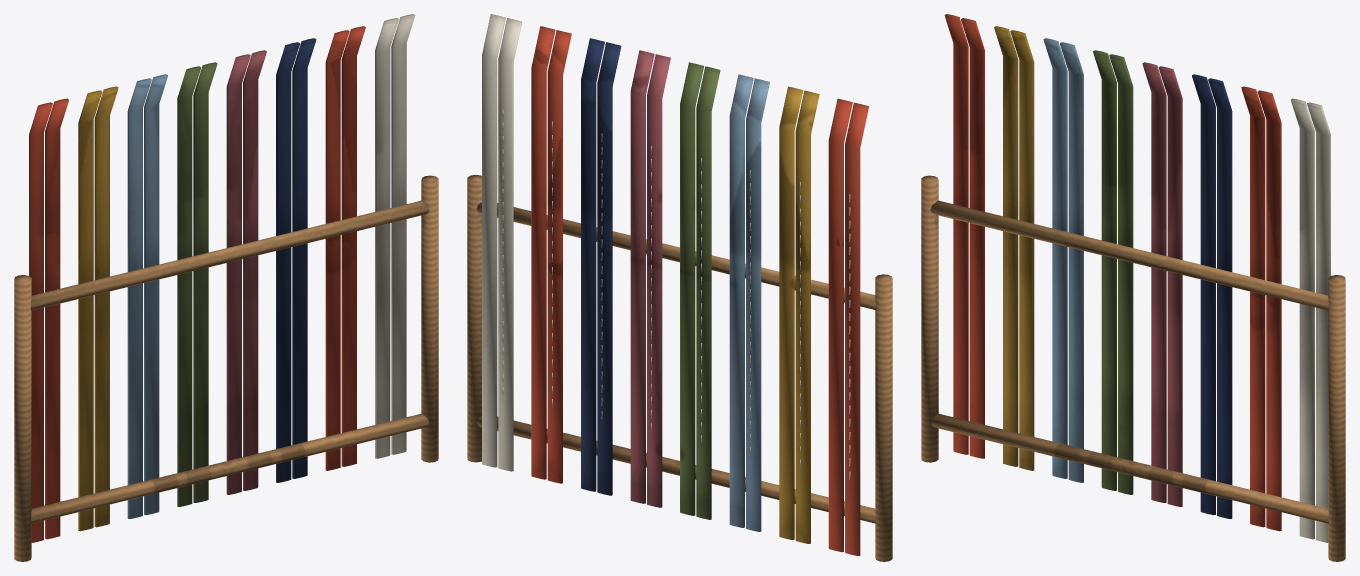
The model's file is ski_rack.glb.
3 views of the same model, side by side, from view 1: azimuth 30°, elevation 25°; view 2: azimuth 150°, elevation 25°; view 3: azimuth 330°, elevation 25° (orthographic).
Visible parts, largest first — view 1: ski_rack_felt_red, ski_rack_wood, ski_rack_felt_ivory, ski_rack_felt_mustard, ski_rack_felt_indigo, ski_rack_felt_moss, ski_rack_felt_rose, ski_rack_felt_sky; view 2: ski_rack_felt_red, ski_rack_felt_rose, ski_rack_felt_indigo, ski_rack_felt_moss, ski_rack_felt_ivory, ski_rack_felt_sky, ski_rack_felt_mustard, ski_rack_wood, ski_rack_thread; view 3: ski_rack_felt_red, ski_rack_wood, ski_rack_felt_mustard, ski_rack_felt_sky, ski_rack_felt_rose, ski_rack_felt_indigo, ski_rack_felt_moss, ski_rack_felt_ivory.
Boxes of the visible parts, bbox=[...] form: ski_rack_felt_red: bbox=[29, 26, 365, 542]; ski_rack_wood: bbox=[14, 175, 438, 561]; ski_rack_felt_ivory: bbox=[375, 14, 415, 458]; ski_rack_felt_mustard: bbox=[78, 86, 118, 531]; ski_rack_felt_indigo: bbox=[276, 38, 316, 482]; ski_rack_felt_moss: bbox=[177, 62, 217, 506]; ski_rack_felt_rose: bbox=[226, 50, 266, 494]; ski_rack_felt_sky: bbox=[127, 74, 167, 518]; ski_rack_felt_red: bbox=[531, 26, 868, 556]; ski_rack_felt_rose: bbox=[630, 50, 670, 507]; ski_rack_felt_indigo: bbox=[581, 38, 621, 495]; ski_rack_felt_moss: bbox=[680, 62, 720, 519]; ski_rack_felt_ivory: bbox=[482, 14, 522, 471]; ski_rack_felt_sky: bbox=[729, 74, 769, 531]; ski_rack_felt_mustard: bbox=[779, 86, 819, 543]; ski_rack_wood: bbox=[467, 175, 892, 561]; ski_rack_thread: bbox=[502, 110, 850, 479]; ski_rack_felt_red: bbox=[944, 14, 1281, 531]; ski_rack_wood: bbox=[921, 175, 1345, 561]; ski_rack_felt_mustard: bbox=[994, 26, 1034, 470]; ski_rack_felt_sky: bbox=[1043, 38, 1083, 482]; ski_rack_felt_rose: bbox=[1142, 62, 1182, 506]; ski_rack_felt_indigo: bbox=[1192, 74, 1232, 518]; ski_rack_felt_moss: bbox=[1093, 50, 1133, 494]; ski_rack_felt_ivory: bbox=[1291, 98, 1330, 542].
Size of the model in its own units: 3.31 by 3.37 by 0.1983.
Materials: 9 (8 with a texture image).
